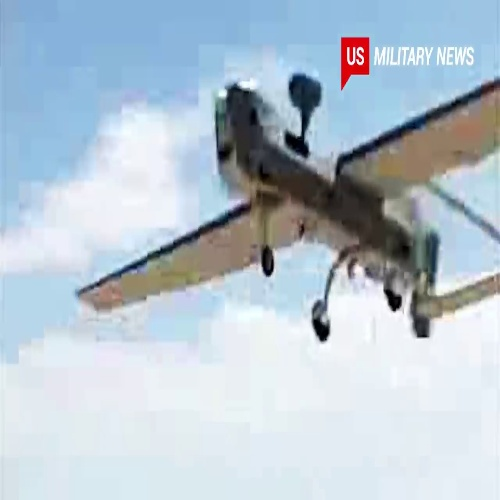uav: (75, 64, 500, 342)
